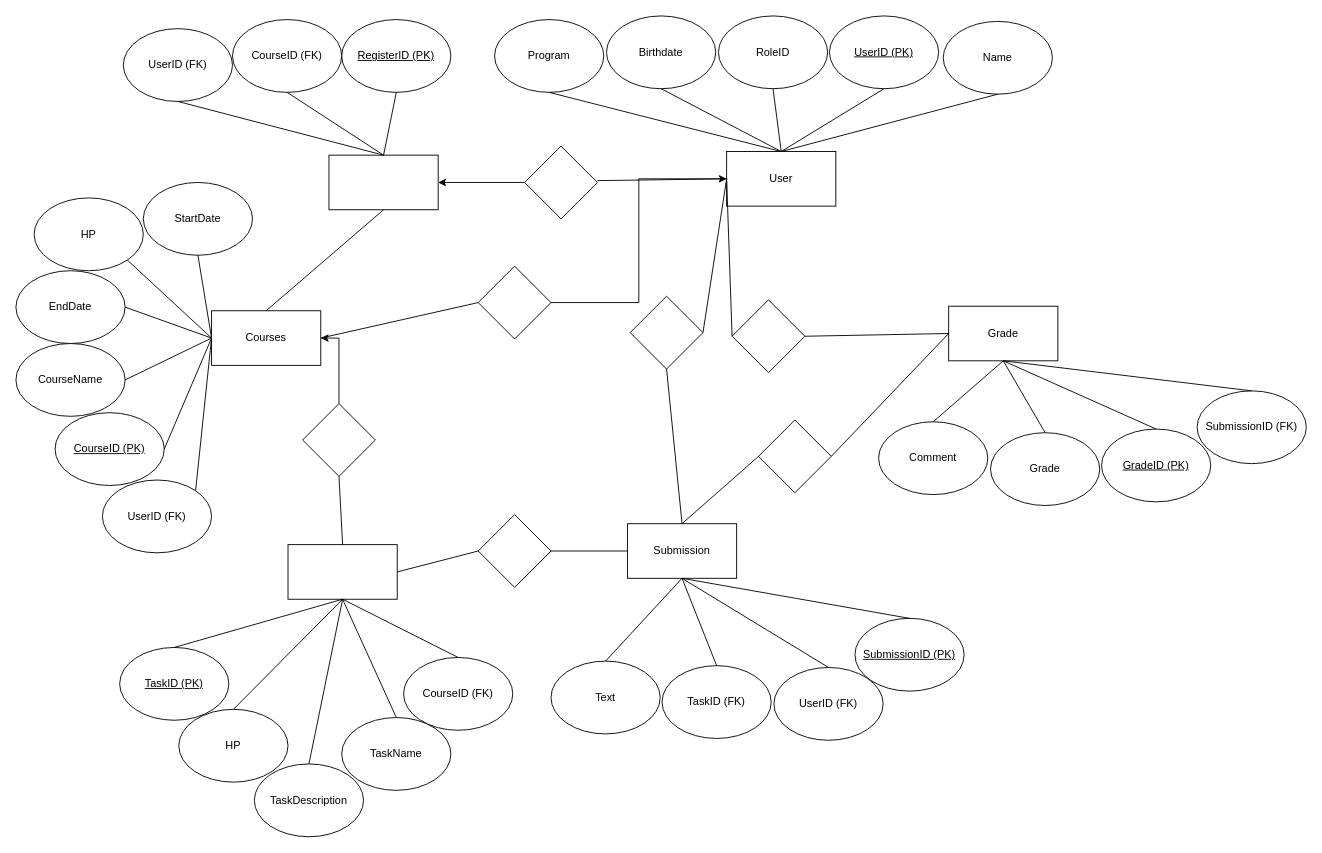
This 1322x853 diagram has some shape labels left out. Each missing label, with the centre of its shape:
Adds HP: the point at 338,439
Gets Graded: the point at 794,456
Registers: the point at 560,182
Registrations: the point at 383,182
Sets grade (Teacher): the point at 768,336
Submits: the point at 666,332
Tasks: the point at 342,571
Teaches: the point at 514,302
Validates: the point at 514,550
